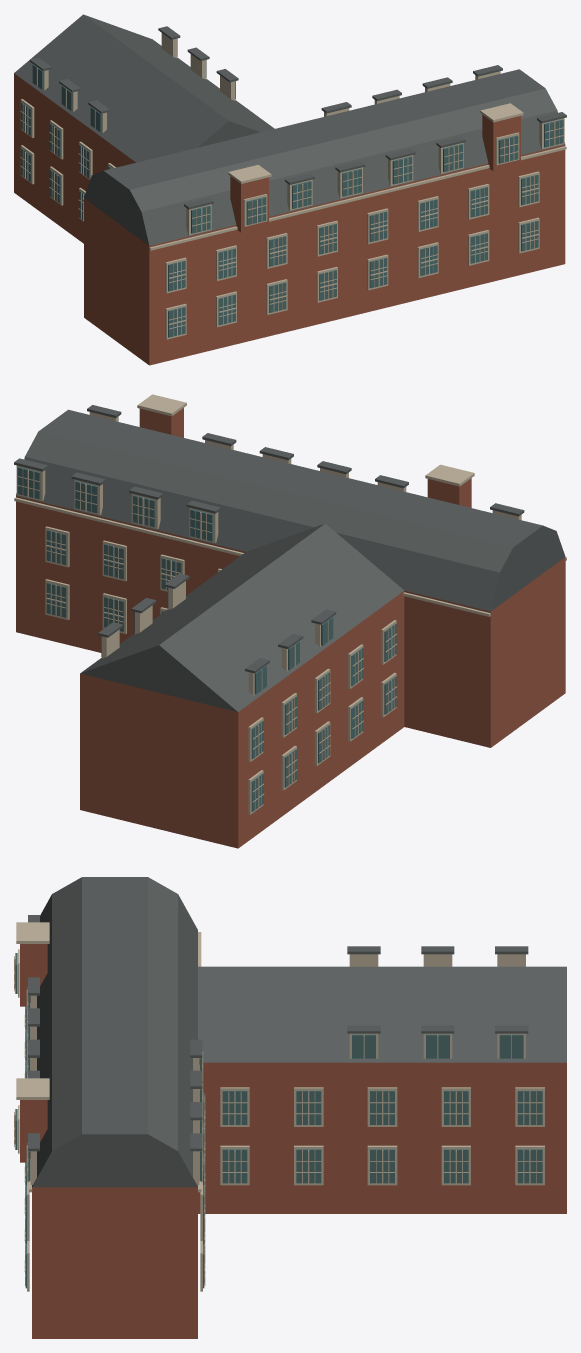
File: susan-campbell-parapet-exterior-2026-11-04.glb
The picture shows the model from 3 angles, top to bottom: view 1: azimuth 30°, elevation 25°; view 2: azimuth 150°, elevation 25°; view 3: azimuth 270°, elevation 25°; orthographic projection. The views are drawn at different scales.
Visible parts, largest first — view 1: susan-part-0; view 2: susan-part-0; view 3: susan-part-0.
Part boxes in pixels (x1,y1,x2,y2): susan-part-0: (14, 14, 566, 365); susan-part-0: (14, 394, 566, 848); susan-part-0: (14, 877, 566, 1338).
Bounding box in the file's own units: 33 × 12.7 × 29.98.
